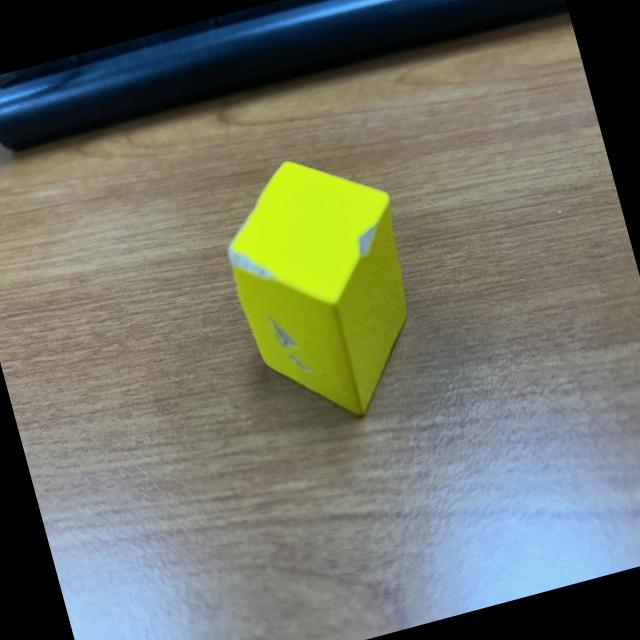broken: (205, 136, 445, 440)
